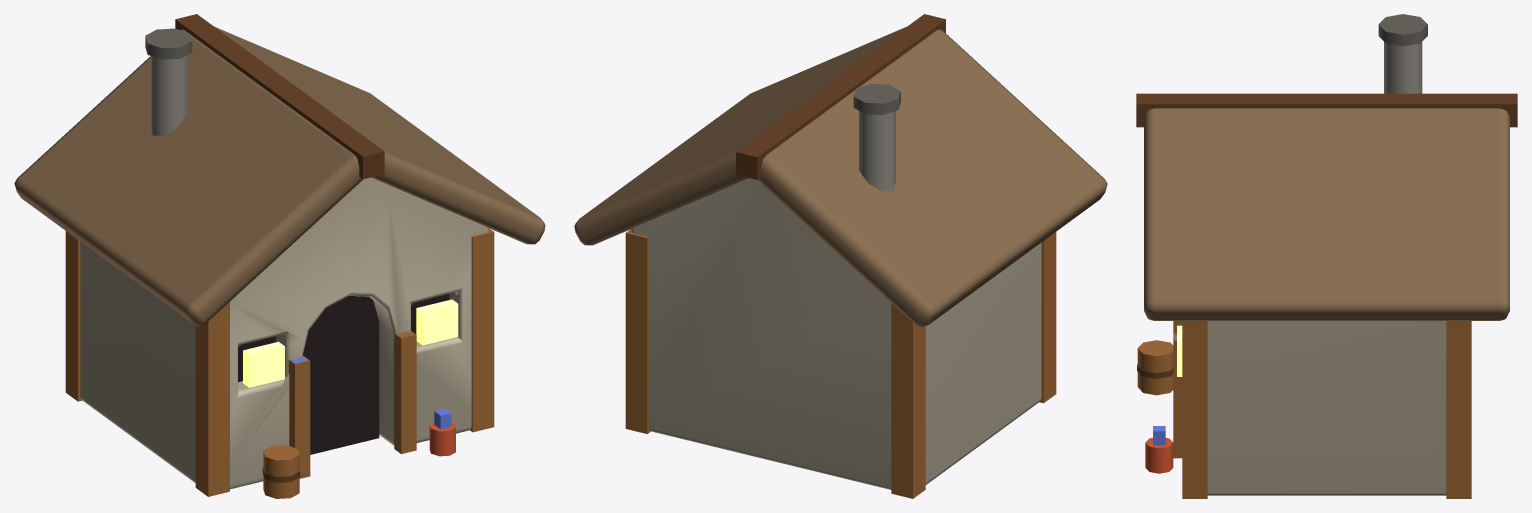
The model's file is Buildings__hut_b.glb.
The picture shows the model from 3 angles, left to right: view 1: azimuth 30°, elevation 25°; view 2: azimuth 150°, elevation 25°; view 3: azimuth 270°, elevation 25°; orthographic projection.
Visible parts, largest first — view 1: hut_b_mesh; view 2: hut_b_mesh; view 3: hut_b_mesh.
Boxes of the visible parts, <box> form: hut_b_mesh: <box>14,14,545,498</box>; hut_b_mesh: <box>574,14,1107,498</box>; hut_b_mesh: <box>1136,14,1517,498</box>.
Bounding box in the file's own units: 1.65 × 1.6 × 1.5.
